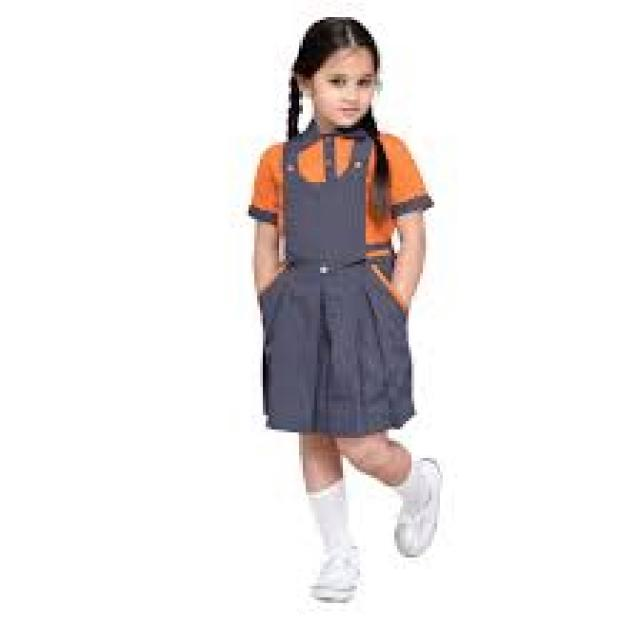child: (237, 11, 457, 618)
